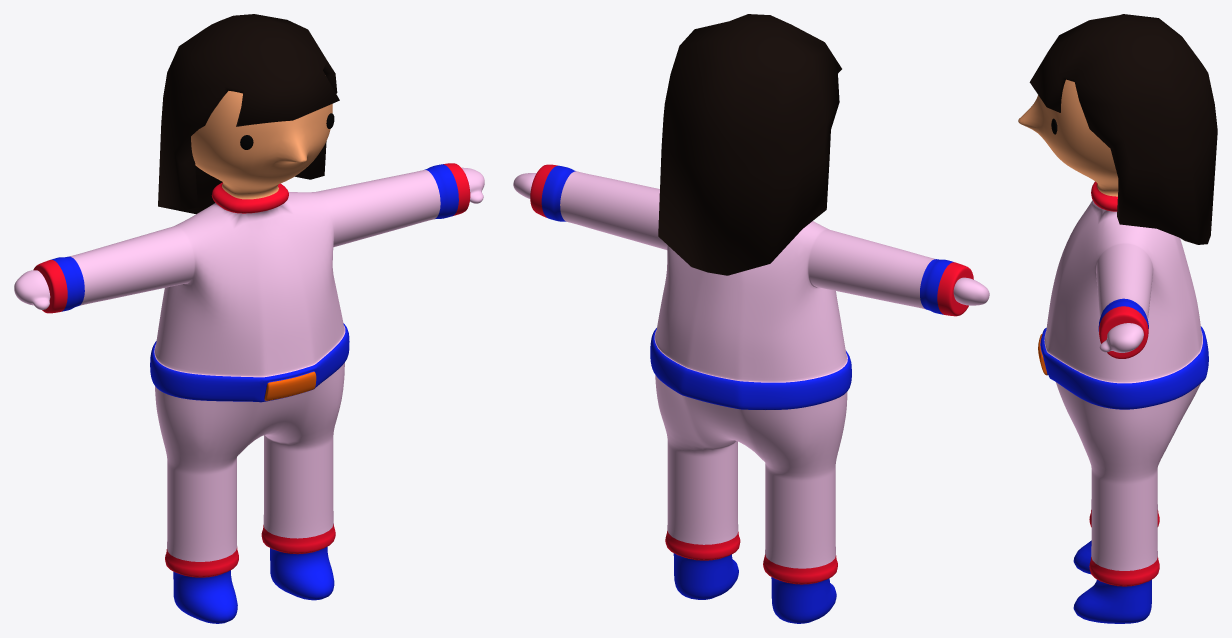
The model's file is space-character.obj.
3 views of the same model, side by side, from view 1: azimuth 30°, elevation 25°; view 2: azimuth 150°, elevation 25°; view 3: azimuth 270°, elevation 25° (orthographic).
Visible parts, largest first — view 1: Roundcube, Roundcube.001, Roundcube.002; view 2: Roundcube, Roundcube.001, Roundcube.002; view 3: Roundcube, Roundcube.001, Roundcube.003.
Boxes of the visible parts, x1,y1,x2,y2 form: Roundcube: (33, 91, 470, 623); Roundcube.001: (158, 14, 339, 213); Roundcube.002: (14, 270, 50, 309); Roundcube: (530, 164, 973, 623); Roundcube.001: (658, 14, 841, 275); Roundcube.002: (953, 277, 989, 305); Roundcube: (1018, 79, 1208, 623); Roundcube.001: (1029, 14, 1217, 244); Roundcube.003: (1099, 323, 1143, 352).
Bounding box in the file's own units: 1.96 × 2.3 × 0.7269.
